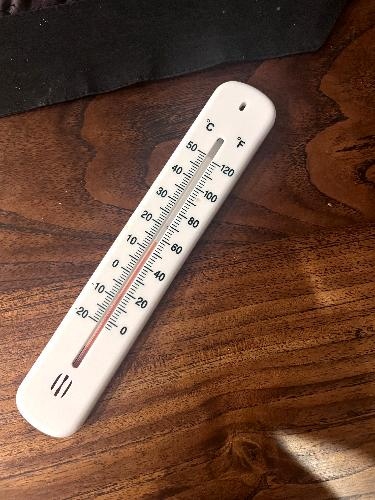thermo: (4, 71, 285, 444)
